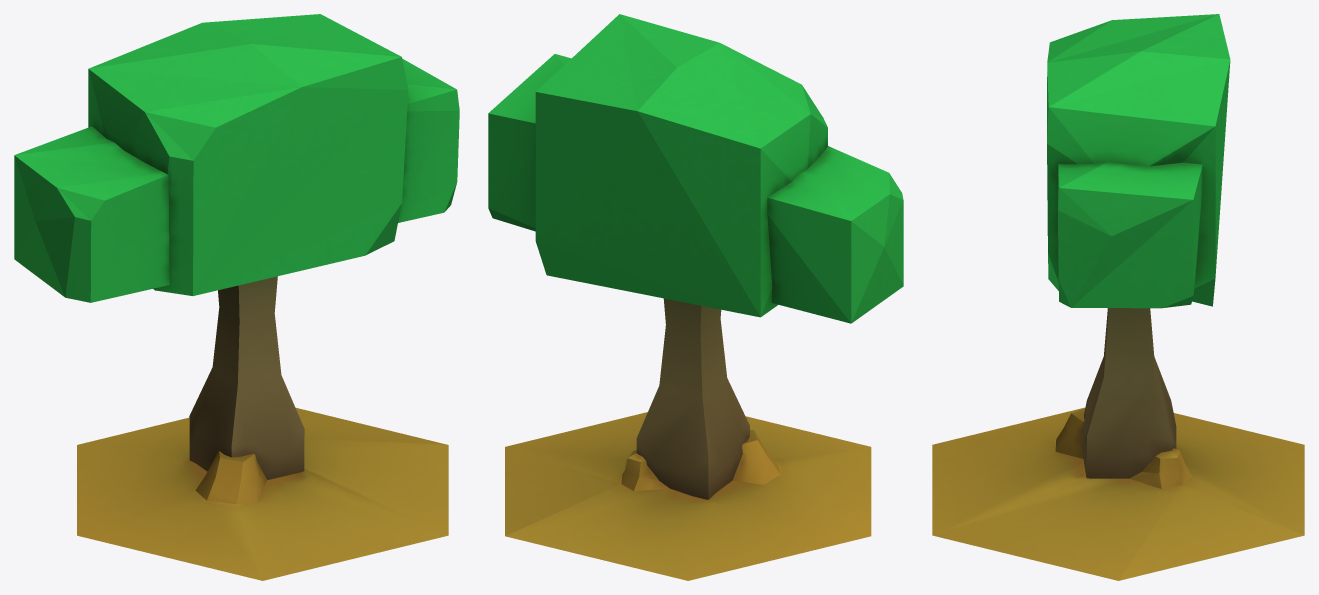
Rendered from shu.FBX.
3 renders of one model, left to right at view 1: azimuth 30°, elevation 25°; view 2: azimuth 150°, elevation 25°; view 3: azimuth 270°, elevation 25°, orthographic.
Parts seen in each view (by area): view 1: FOL_Foliage_04; view 2: FOL_Foliage_04; view 3: FOL_Foliage_04.
Boxes of the visible parts, left/top/right/bottom form: FOL_Foliage_04: left=14, top=14, right=459, bottom=580; FOL_Foliage_04: left=488, top=14, right=903, bottom=580; FOL_Foliage_04: left=932, top=14, right=1304, bottom=580.
Size of the model in its own units: 3.29 by 3.45 by 2.65.
